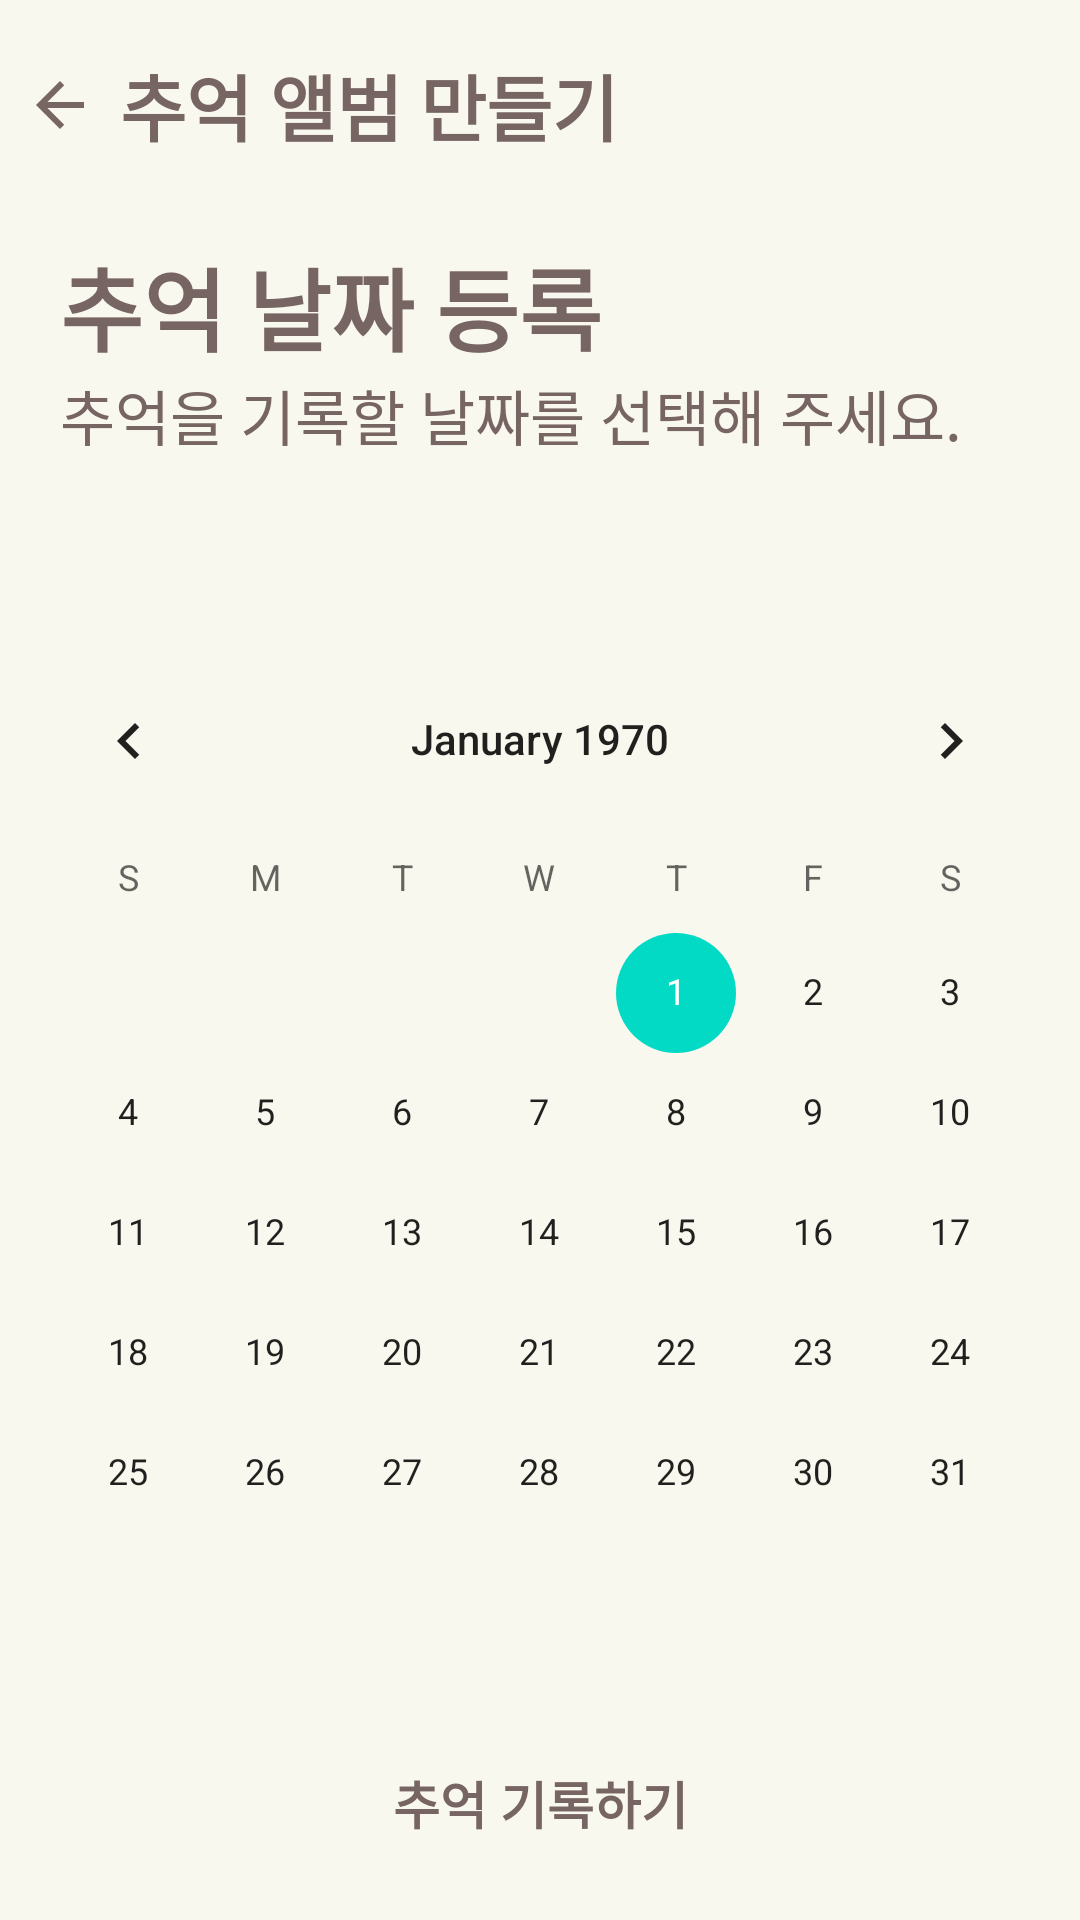

Named icons in this screenshot (1080 x 1920) and their centers, point (x, y):
arrow back: point (60, 105)
